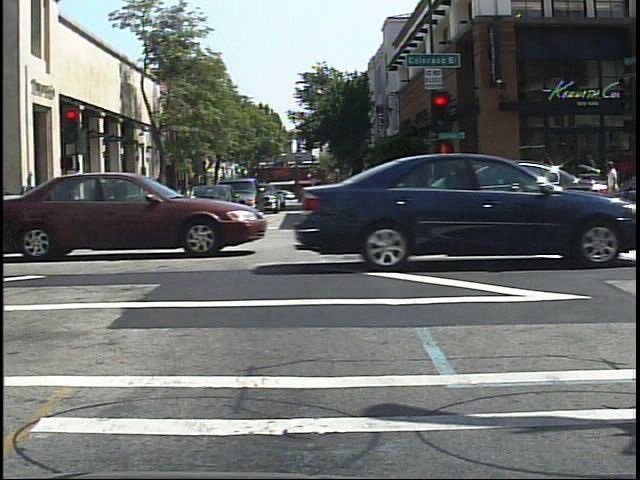person: (600, 156, 626, 222)
